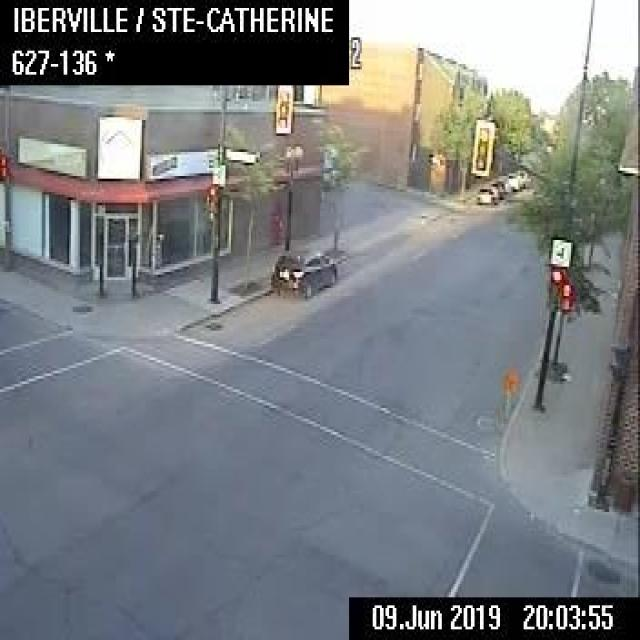vehicle: (268, 246, 338, 296), (476, 185, 496, 203), (506, 170, 521, 189), (514, 167, 528, 187), (496, 174, 510, 193), (487, 180, 503, 194)
